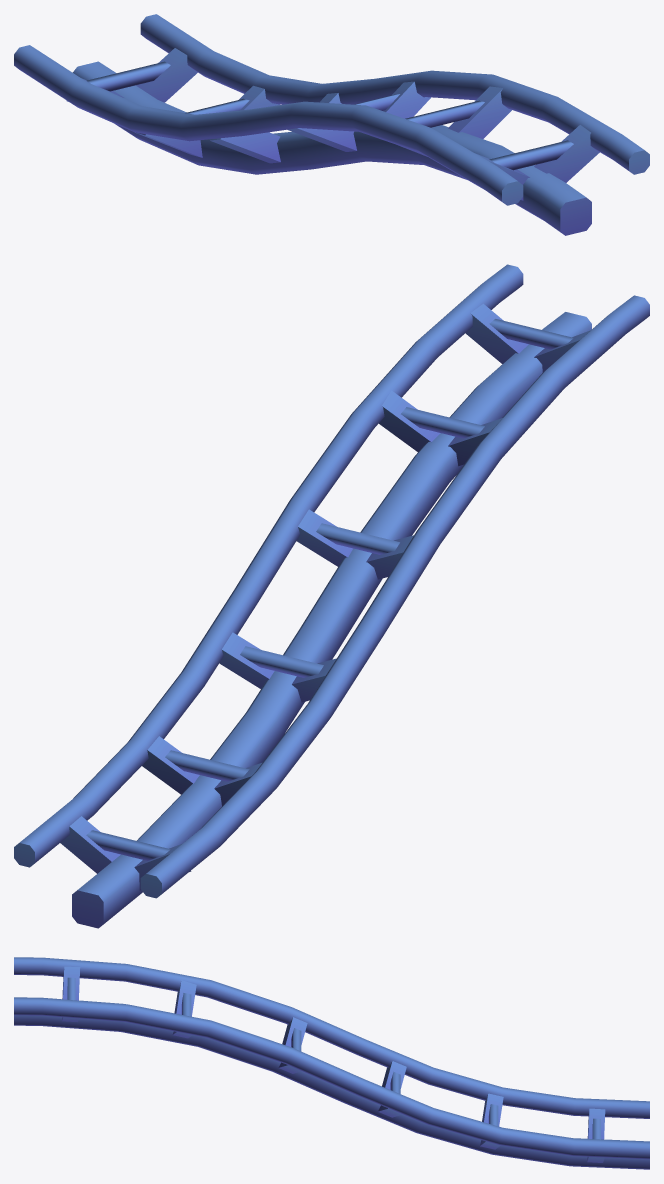
Rendered from kenney-coaster-coaster-steel-straight-hill-complete.glb.
The picture shows the model from 3 angles, top to bottom: view 1: azimuth 30°, elevation 25°; view 2: azimuth 150°, elevation 25°; view 3: azimuth 270°, elevation 25°; orthographic projection. The views are drawn at different scales.
Parts seen in each view (by area): view 1: coaster-steel-straight-hill-complete; view 2: coaster-steel-straight-hill-complete; view 3: coaster-steel-straight-hill-complete.
Boxes of the visible parts, x1,y1,x2,y2 form: coaster-steel-straight-hill-complete: [14, 14, 649, 235]; coaster-steel-straight-hill-complete: [14, 264, 649, 928]; coaster-steel-straight-hill-complete: [14, 957, 649, 1169].
Size of the model in its own units: 0.6997 by 1.3 by 4.
Materials: 1 (1 with a texture image).
